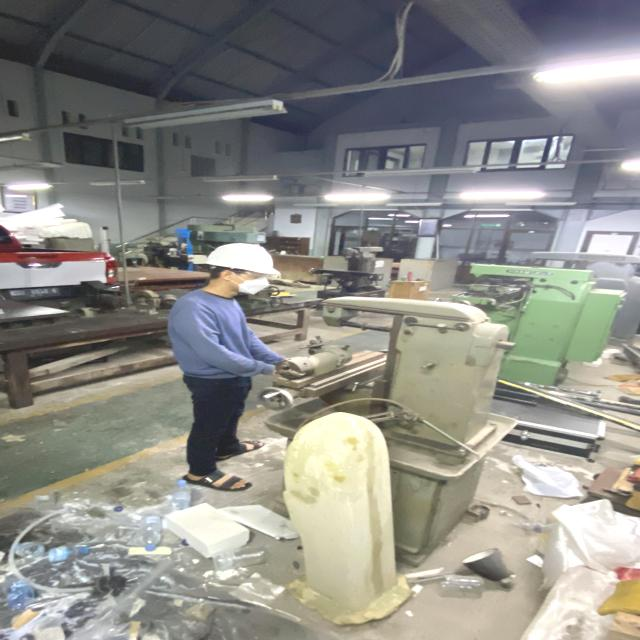face_mask: (228, 272, 272, 296)
glasses: (226, 268, 272, 282)
head_helmet: (207, 240, 281, 274)
person: (162, 240, 295, 495)
